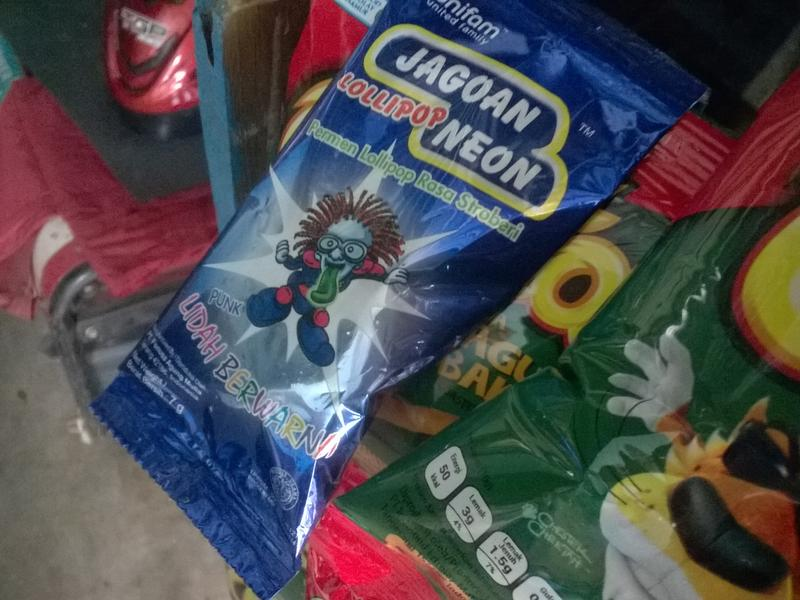jagoan neon: (93, 2, 706, 596)
